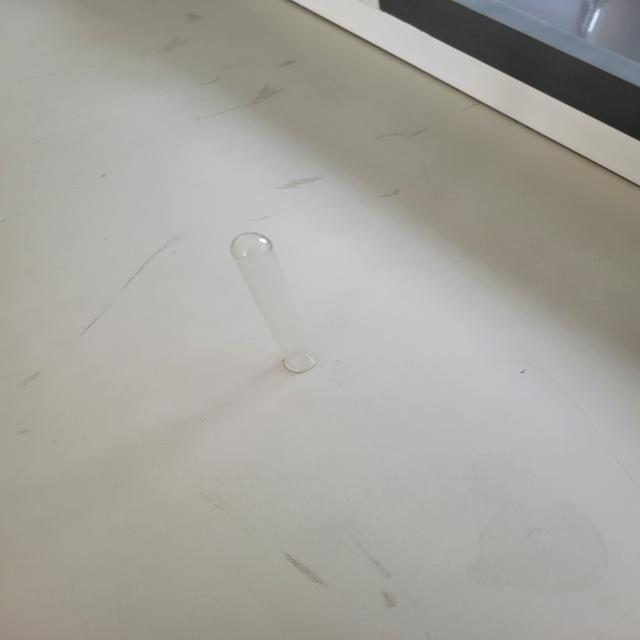Test_Tube: (214, 212, 343, 416)
